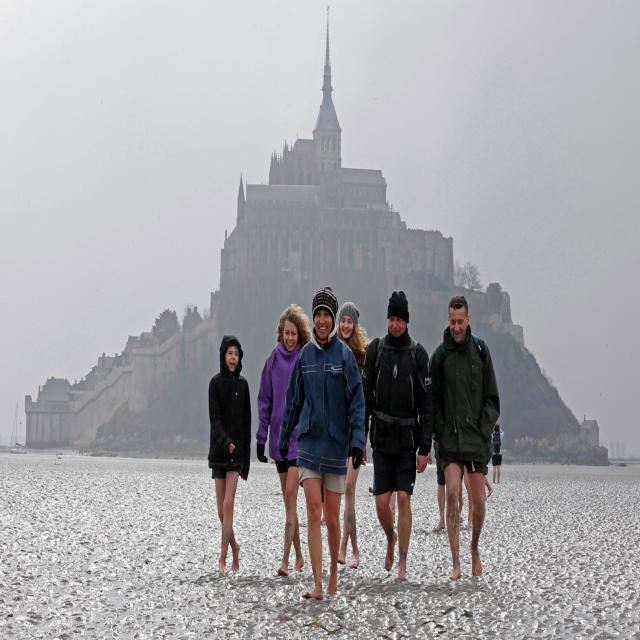body: (275, 284, 367, 602), (355, 286, 436, 585), (429, 293, 502, 582), (256, 302, 312, 577), (206, 332, 254, 578), (335, 299, 372, 569), (430, 345, 470, 535), (456, 462, 494, 520), (490, 422, 505, 484)
